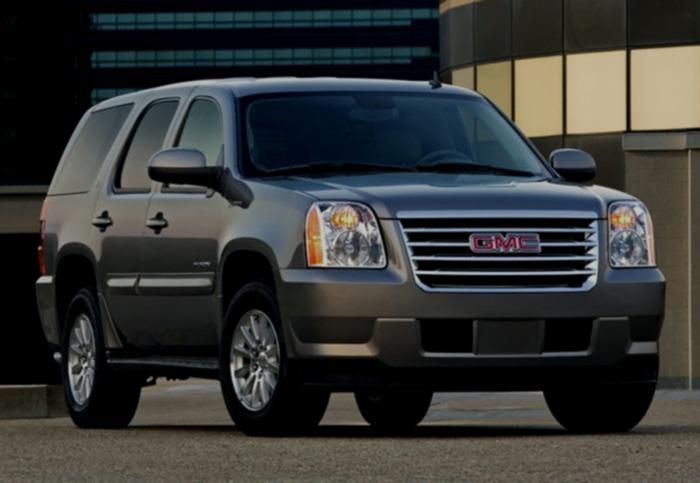GMC: (460, 225, 549, 258)
